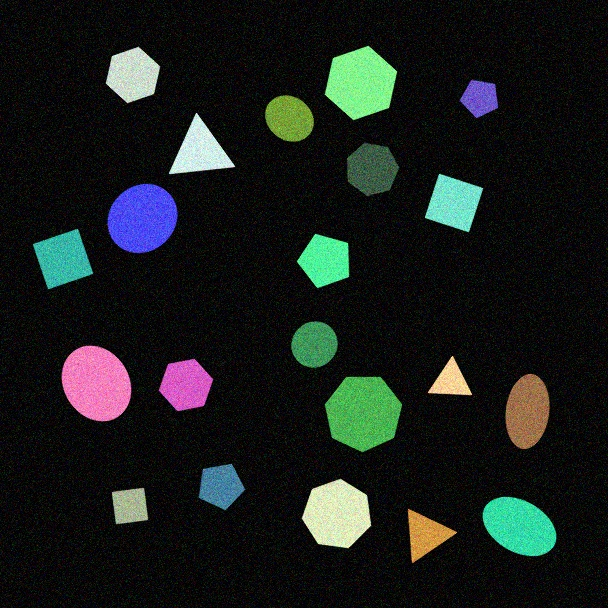Circulo: (107, 183, 178, 254), (264, 95, 315, 142), (291, 321, 338, 368)
Elipse: (61, 345, 132, 422), (482, 496, 557, 557), (505, 373, 550, 450)
Heptagono: (324, 376, 403, 453), (301, 478, 372, 549), (346, 142, 400, 197)
Hexagono: (324, 45, 398, 121), (105, 46, 161, 104), (158, 358, 214, 412)
Pentagono: (296, 233, 350, 289), (198, 463, 246, 511), (459, 79, 499, 119)
Quadrado: (32, 228, 94, 290), (424, 173, 484, 233), (111, 487, 149, 525)
Triangulo: (168, 113, 236, 175), (407, 508, 458, 564), (427, 356, 473, 396)
